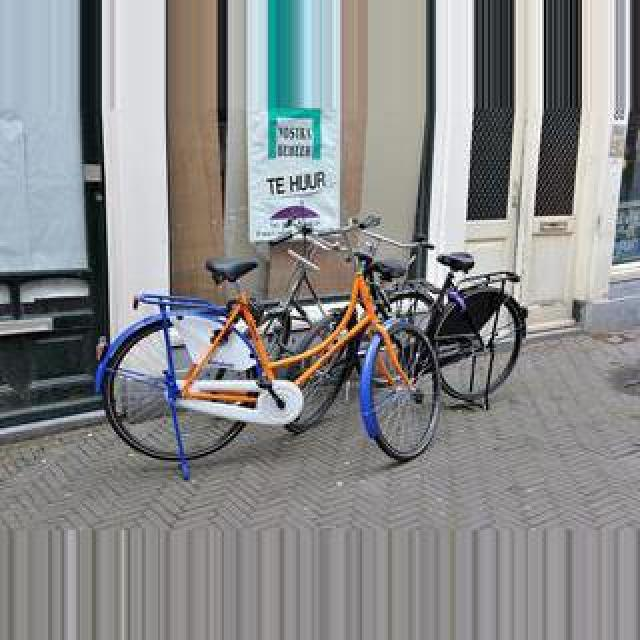Person: (101, 213, 445, 475), (376, 241, 528, 409)
